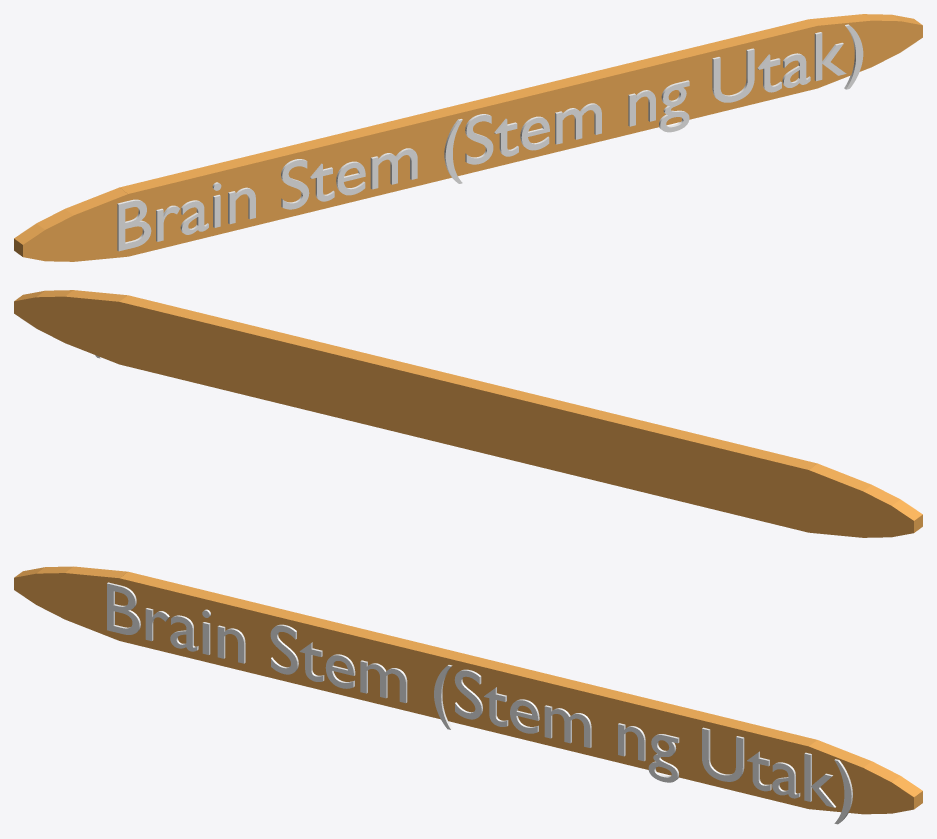
File: txtBrainStem.fbx
3 renders of one model, top to bottom at view 1: azimuth 30°, elevation 25°; view 2: azimuth 150°, elevation 25°; view 3: azimuth 330°, elevation 25°, orthographic.
Parts seen in each view (by area): view 1: TagContainer.097, Text.099; view 2: TagContainer.097; view 3: TagContainer.097, Text.099.
Part boxes in pixels (x1=…): TagContainer.097: x1=14, y1=14, x2=922, y2=261; Text.099: x1=117, y1=24, x2=863, y2=251; TagContainer.097: x1=14, y1=290, x2=922, y2=537; TagContainer.097: x1=14, y1=566, x2=922, y2=814; Text.099: x1=107, y1=582, x2=852, y2=824.
Bounding box in the file's own units: 621 × 45.81 × 12.37.
